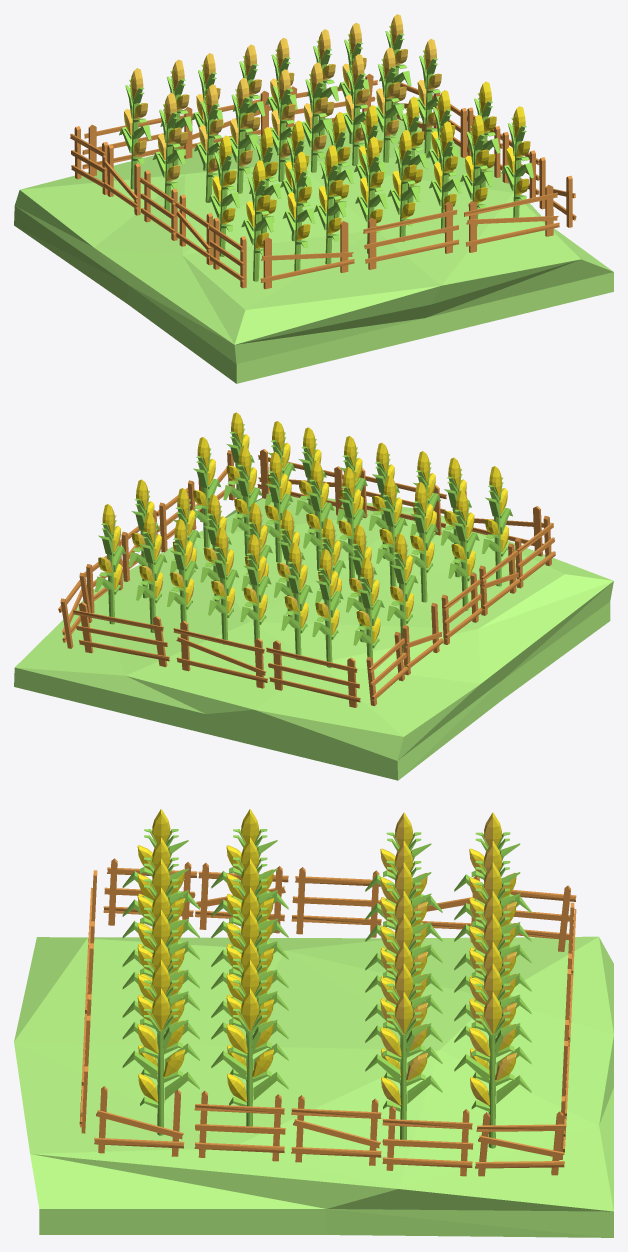
File: building_vegefarm.fbx
3 renders of one model, top to bottom at view 1: azimuth 30°, elevation 25°; view 2: azimuth 150°, elevation 25°; view 3: azimuth 270°, elevation 25°, orthographic. The views are drawn at different scales.
Visible parts, largest first — view 1: grass; view 2: grass; view 3: grass.
Boxes of the visible parts, x1,y1,x2,y2 form: grass: [14, 14, 613, 383]; grass: [14, 412, 613, 780]; grass: [14, 809, 613, 1237].
Size of the model in its own units: 51.6 by 21.88 by 52.21.
